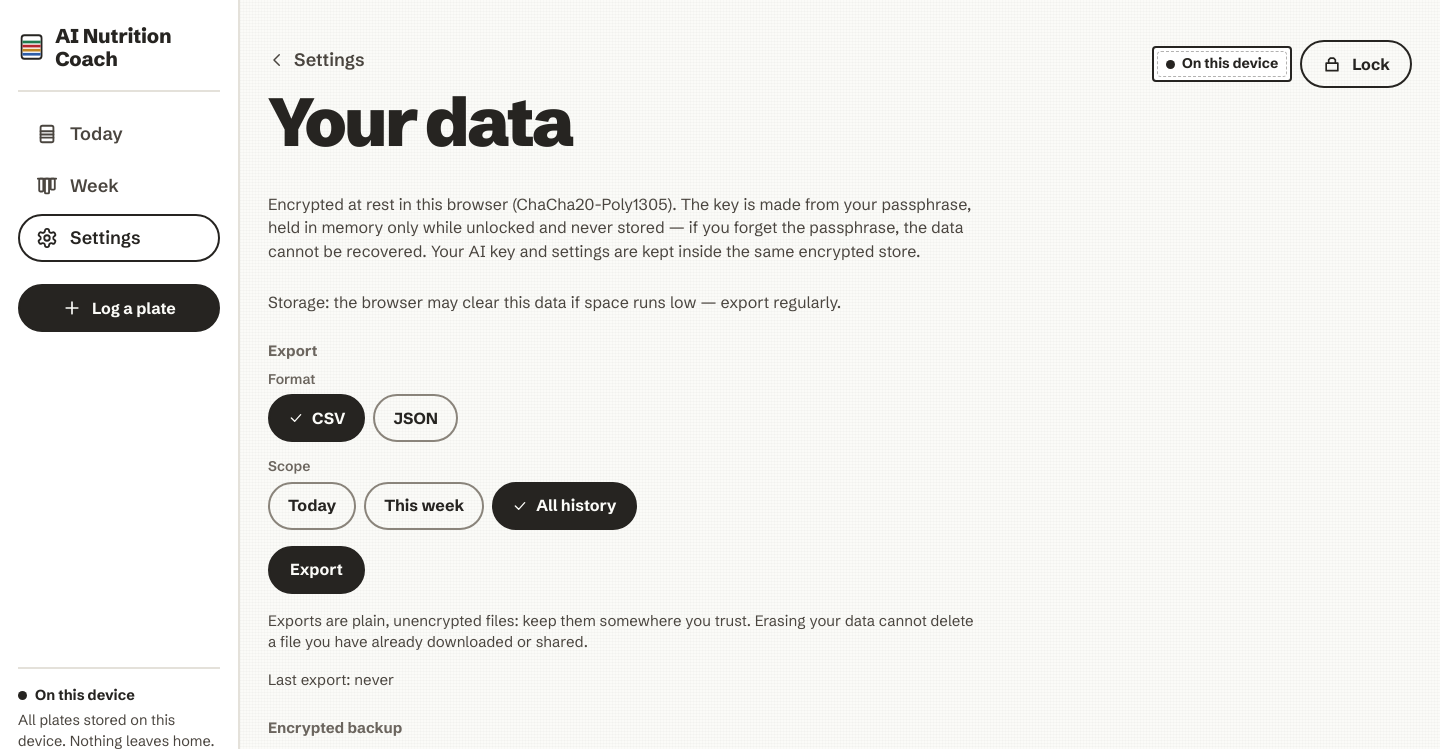
Scenario: YourDataScreen: export › an empty history exports a header-only file
Expected: the heading "Your data" is shown, left=268, top=92, right=572, bottom=153
Click the button "Export" at x=316, y=570, box left=268, top=546, right=365, bottom=594
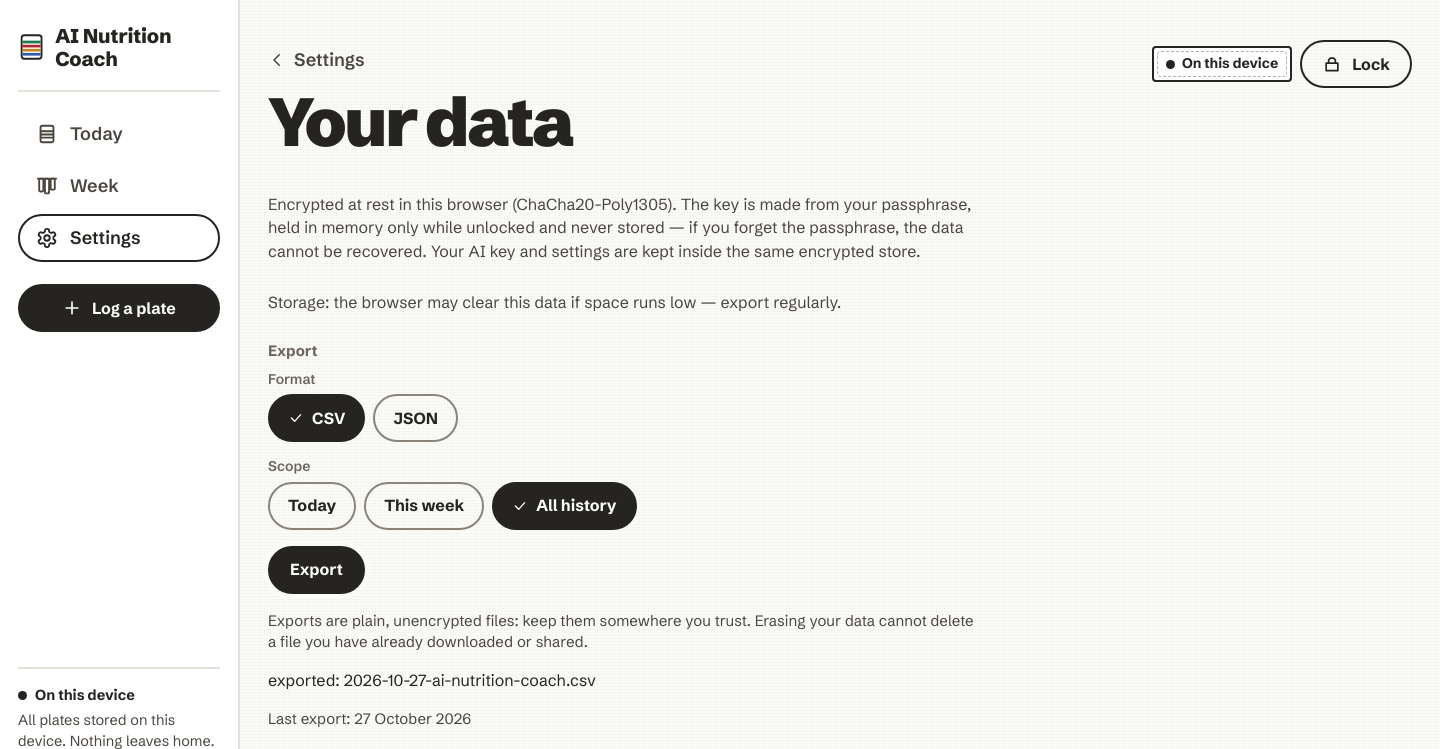
Now the text "exported: 2026-10-27-ai-nutrition-coach.csv" is shown, box left=268, top=670, right=596, bottom=690
